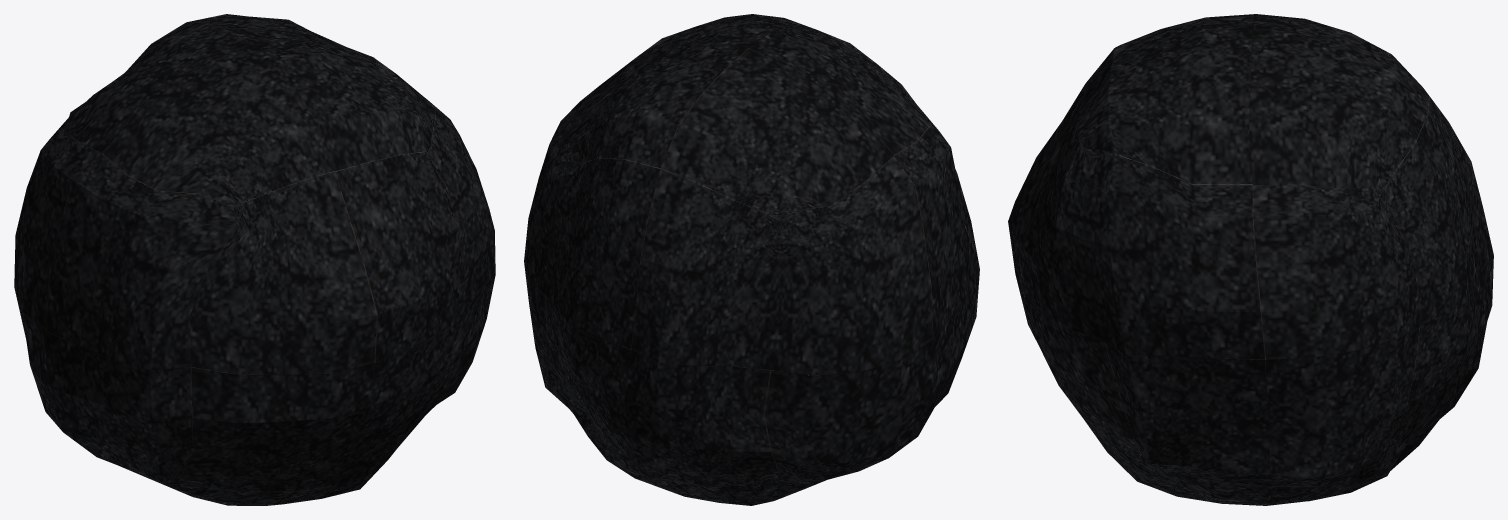
Rendered from SM_EC_Rock_61.fbx.
3 renders of one model, left to right at view 1: azimuth 30°, elevation 25°; view 2: azimuth 150°, elevation 25°; view 3: azimuth 270°, elevation 25°, orthographic. The views are drawn at different scales.
Visible parts, largest first — view 1: SM_EC_Rock_61; view 2: SM_EC_Rock_61; view 3: SM_EC_Rock_61.
Boxes of the visible parts, x1=… form: SM_EC_Rock_61: x1=14, y1=14, x2=495, y2=505; SM_EC_Rock_61: x1=524, y1=14, x2=979, y2=505; SM_EC_Rock_61: x1=1008, y1=14, x2=1493, y2=505.
Bounding box in the file's own units: 1.84 × 1.88 × 1.95.
